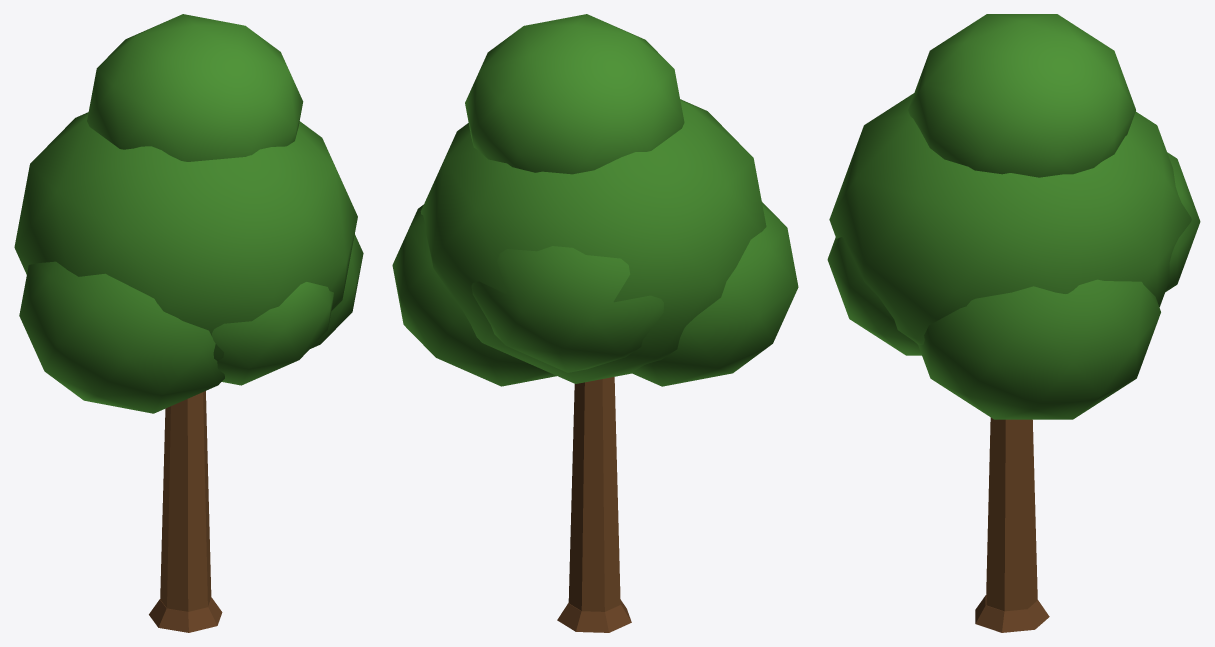
The model's file is p_tree_leaf_2.glb.
3 renders of one model, left to right at view 1: azimuth 30°, elevation 25°; view 2: azimuth 150°, elevation 25°; view 3: azimuth 270°, elevation 25°, orthographic. The views are drawn at different scales.
Parts seen in each view (by area): view 1: body; view 2: body; view 3: body.
Part boxes in pixels (bbox=[...]): body: bbox=[14, 14, 363, 632]; body: bbox=[392, 14, 798, 632]; body: bbox=[827, 14, 1200, 632].
Bounding box in the file's own units: 3.46 × 5.78 × 3.24.
